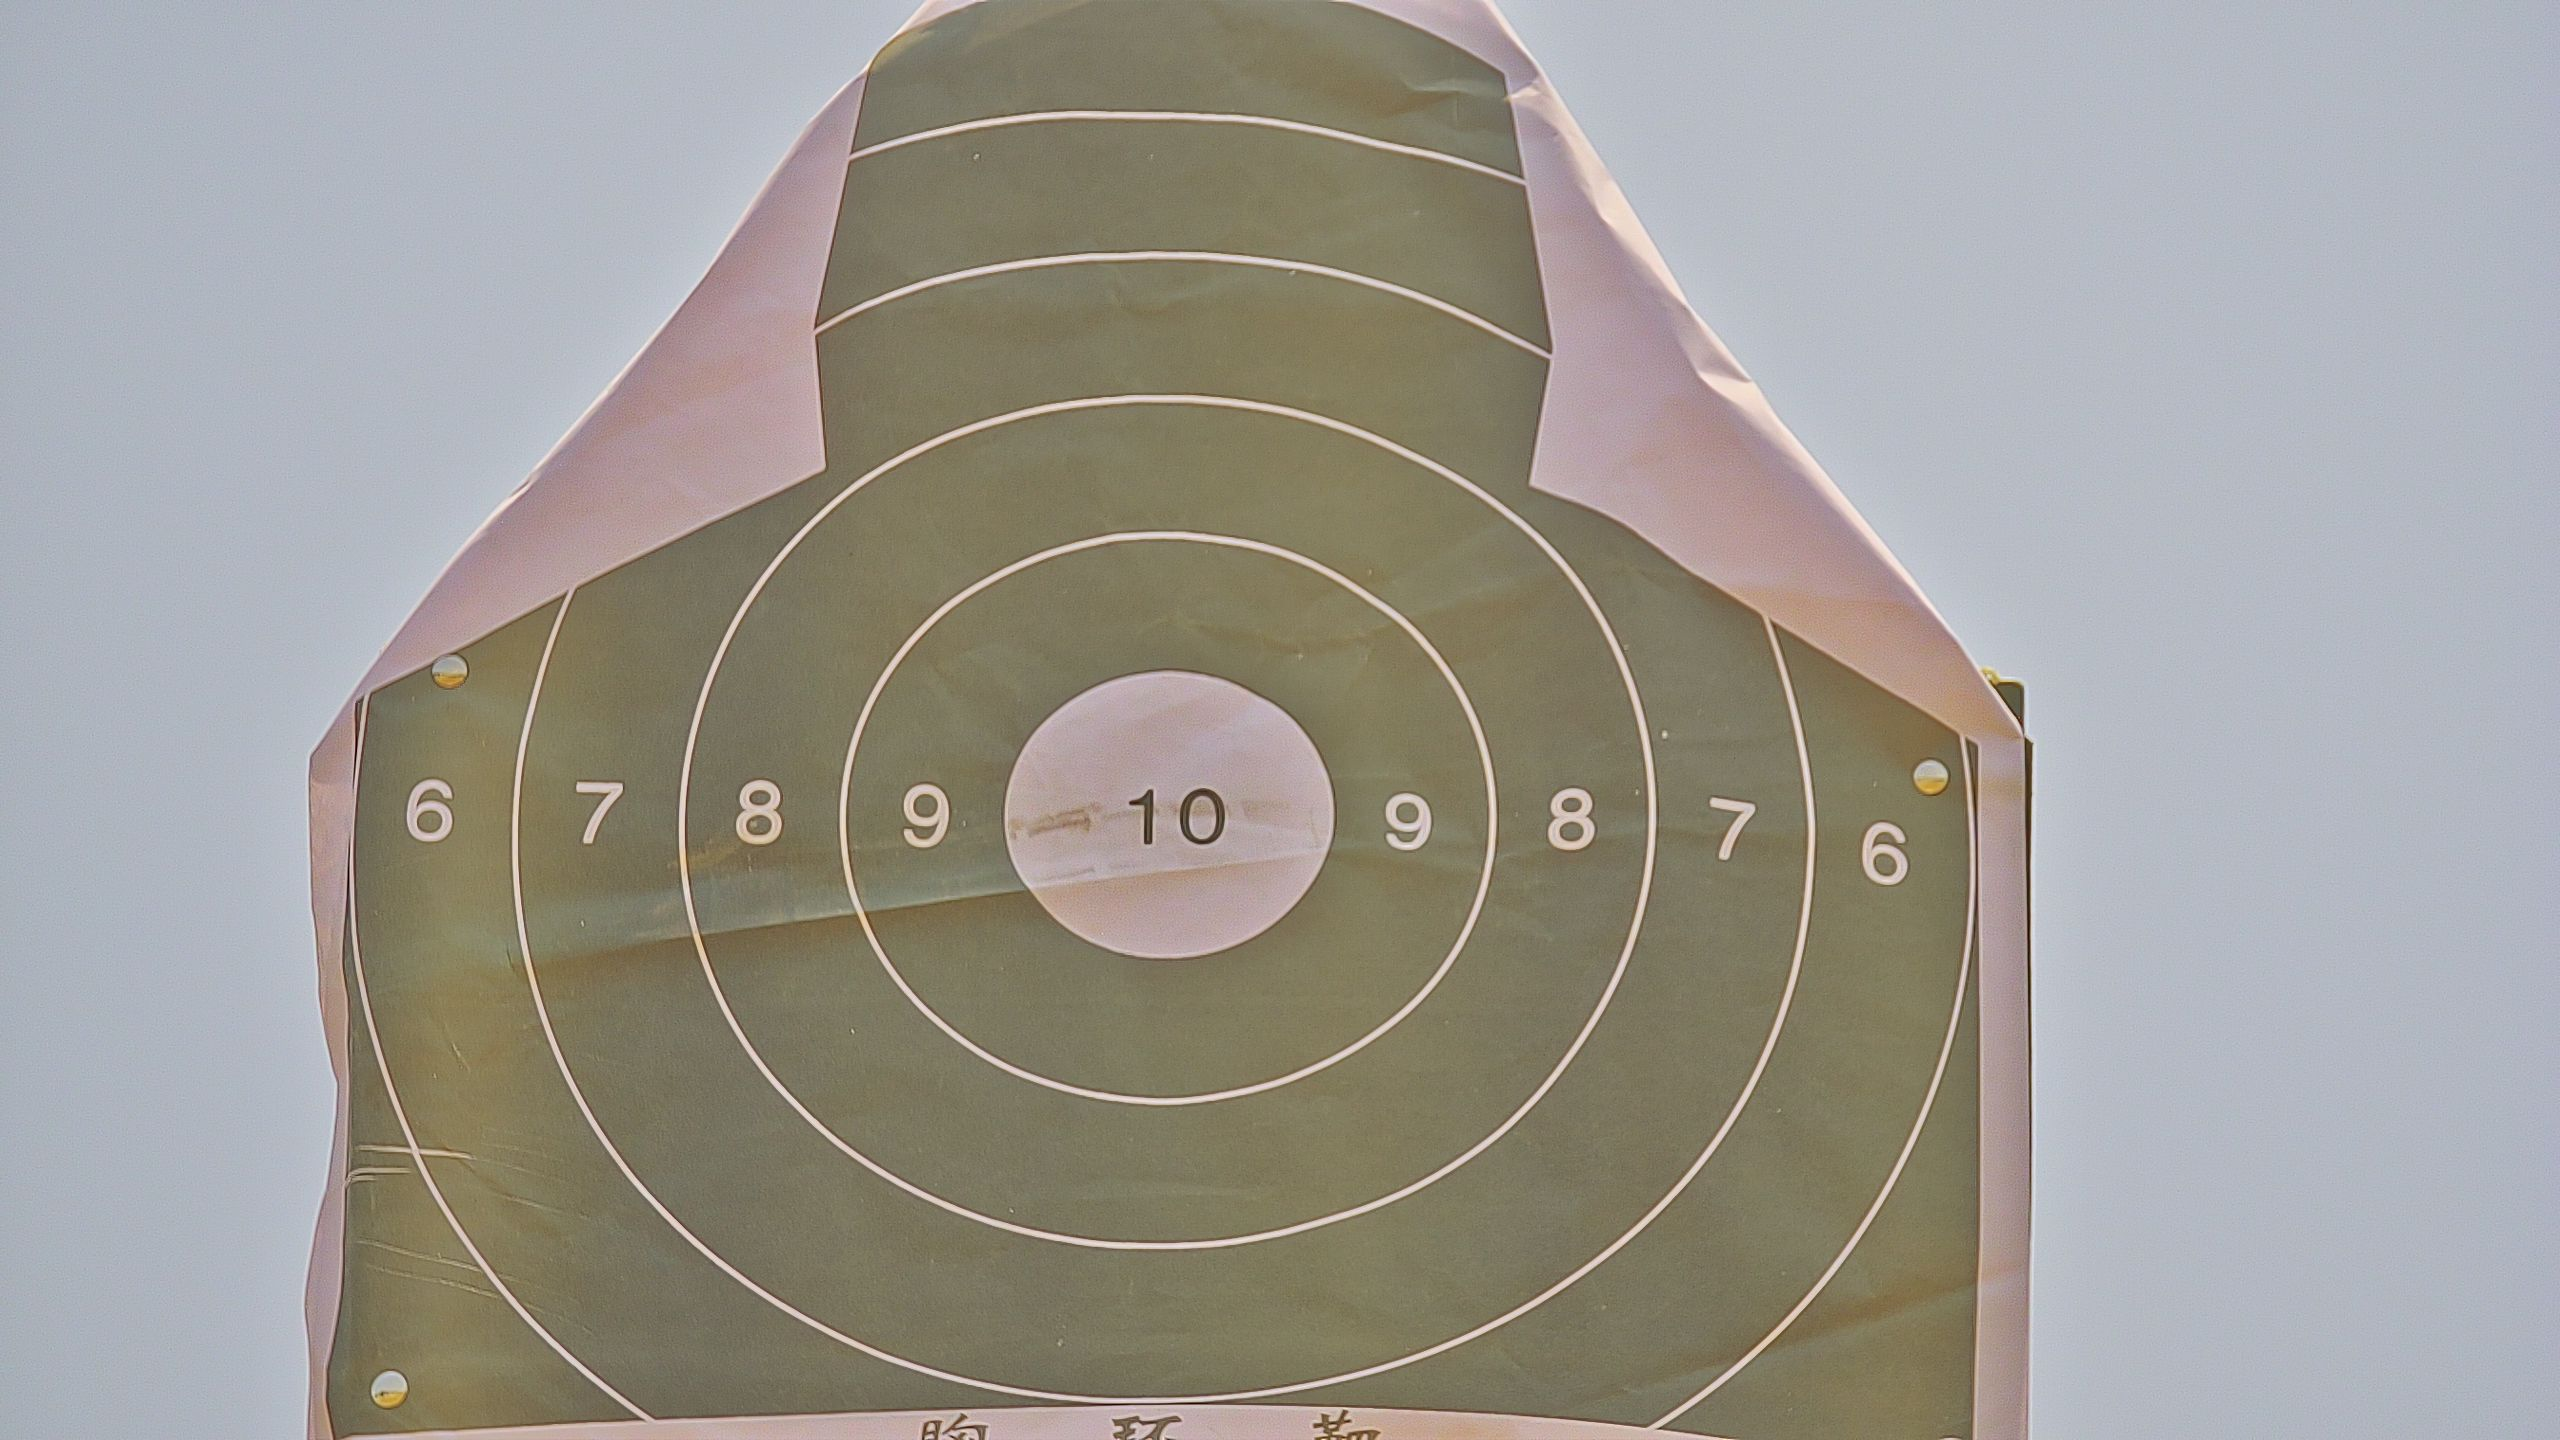kernel: (1166, 816, 1167, 818)
target: (343, 2, 1978, 1440)
ten: (1006, 666, 1340, 962)
